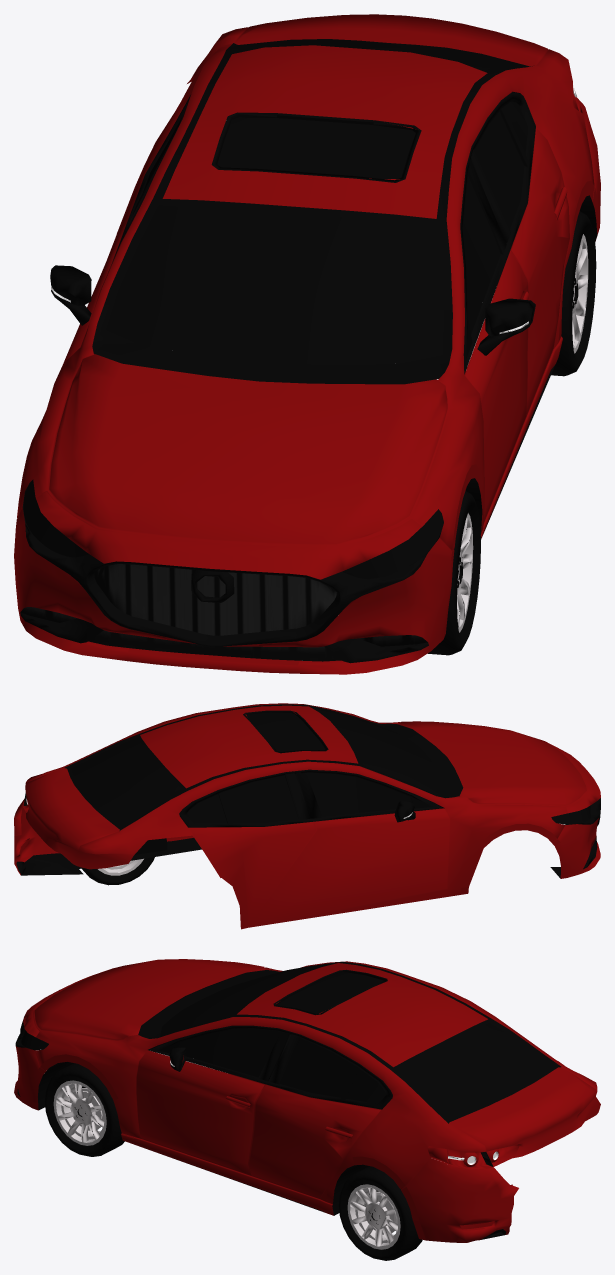
The model's file is car.fbx.
The picture shows the model from 3 angles, top to bottom: view 1: azimuth 30°, elevation 25°; view 2: azimuth 150°, elevation 25°; view 3: azimuth 270°, elevation 25°; orthographic projection. The views are drawn at different scales.
Visible parts, largest first — view 1: Mazda_3.Body_Clearcoat_0.001, Mazda_3.Body_Windows_0.001, Mazda_3.Body_Black_Diffuse_0.001, Mazda_3.Body_Grill_0.001, Mazda_3.Body_Metallic_Black_0.001, Mazda_3.Whl.002_Tires_0.001, Mazda_3.Whl.000_Tires_0.002, Mazda_3.Whl.002_Alloy_0.001, Mazda_3.Whl.000_Alloy_0.001; view 2: Mazda_3.Body_Clearcoat_0.001, Mazda_3.Body_Windows_0.001, Mazda_3.Body_Black_Diffuse_0.001, Mazda_3.Whl.002_Tires_0.001, Mazda_3.Body_Metallic_Black_0.001, Mazda_3.Whl.002_Alloy_0.001; view 3: Mazda_3.Body_Clearcoat_0.001, Mazda_3.Body_Windows_0.001, Mazda_3.Body_Black_Diffuse_0.001, Mazda_3.Whl.002_Tires_0.001, Mazda_3.Whl.000_Tires_0.002, Mazda_3.Whl.002_Alloy_0.001, Mazda_3.Whl.000_Alloy_0.001, Mazda_3.Body_Chrome_Red_0.002, Mazda_3.Body_Metallic_Black_0.001.
Part boxes in pixels (x1,y1,x2,y2): Mazda_3.Body_Clearcoat_0.001: (14, 14, 600, 674); Mazda_3.Body_Windows_0.001: (23, 39, 528, 578); Mazda_3.Body_Black_Diffuse_0.001: (20, 39, 597, 663); Mazda_3.Body_Grill_0.001: (20, 564, 427, 661); Mazda_3.Body_Metallic_Black_0.001: (25, 265, 535, 646); Mazda_3.Whl.002_Tires_0.001: (551, 211, 596, 376); Mazda_3.Whl.000_Tires_0.002: (428, 491, 480, 655); Mazda_3.Whl.002_Alloy_0.001: (572, 234, 588, 353); Mazda_3.Whl.000_Alloy_0.001: (457, 513, 473, 632); Mazda_3.Body_Clearcoat_0.001: (14, 703, 600, 929); Mazda_3.Body_Windows_0.001: (71, 707, 590, 826); Mazda_3.Body_Black_Diffuse_0.001: (16, 704, 597, 878); Mazda_3.Whl.002_Tires_0.001: (82, 857, 154, 885); Mazda_3.Body_Metallic_Black_0.001: (394, 798, 600, 826); Mazda_3.Whl.002_Alloy_0.001: (98, 858, 143, 875); Mazda_3.Body_Clearcoat_0.001: (14, 959, 600, 1242); Mazda_3.Body_Windows_0.001: (21, 963, 552, 1118); Mazda_3.Body_Black_Diffuse_0.001: (17, 961, 561, 1239); Mazda_3.Whl.002_Tires_0.001: (338, 1166, 422, 1260); Mazda_3.Whl.000_Tires_0.002: (44, 1063, 124, 1156); Mazda_3.Whl.002_Alloy_0.001: (347, 1184, 400, 1249); Mazda_3.Whl.000_Alloy_0.001: (53, 1080, 106, 1145); Mazda_3.Body_Chrome_Red_0.002: (427, 1144, 519, 1229); Mazda_3.Body_Metallic_Black_0.001: (15, 1019, 185, 1071).
Bounding box in the file's own units: 176 × 67.11 × 189.
Materials: 1 (1 with a texture image).
